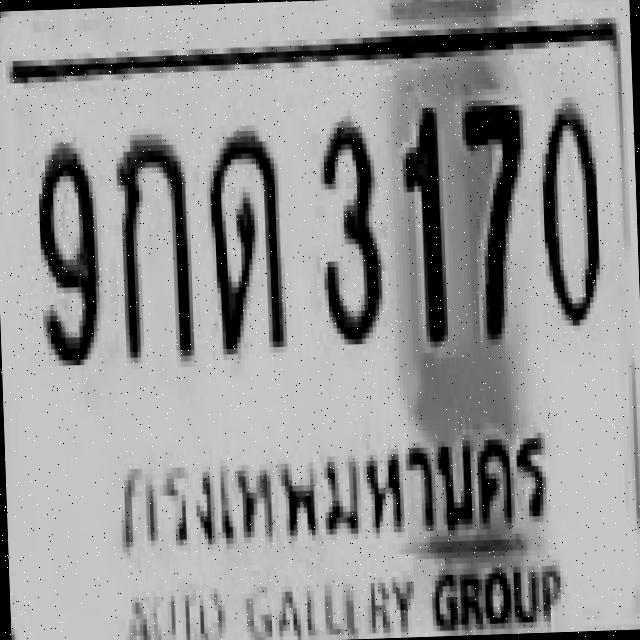0: (536, 96, 601, 326)
1: (396, 101, 444, 336)
10GorGai: (111, 128, 191, 364)
29DorDek: (204, 124, 283, 348)
3: (313, 115, 382, 339)
7: (457, 99, 526, 340)
9: (33, 134, 98, 364)
Bangkok: (108, 414, 554, 566)
